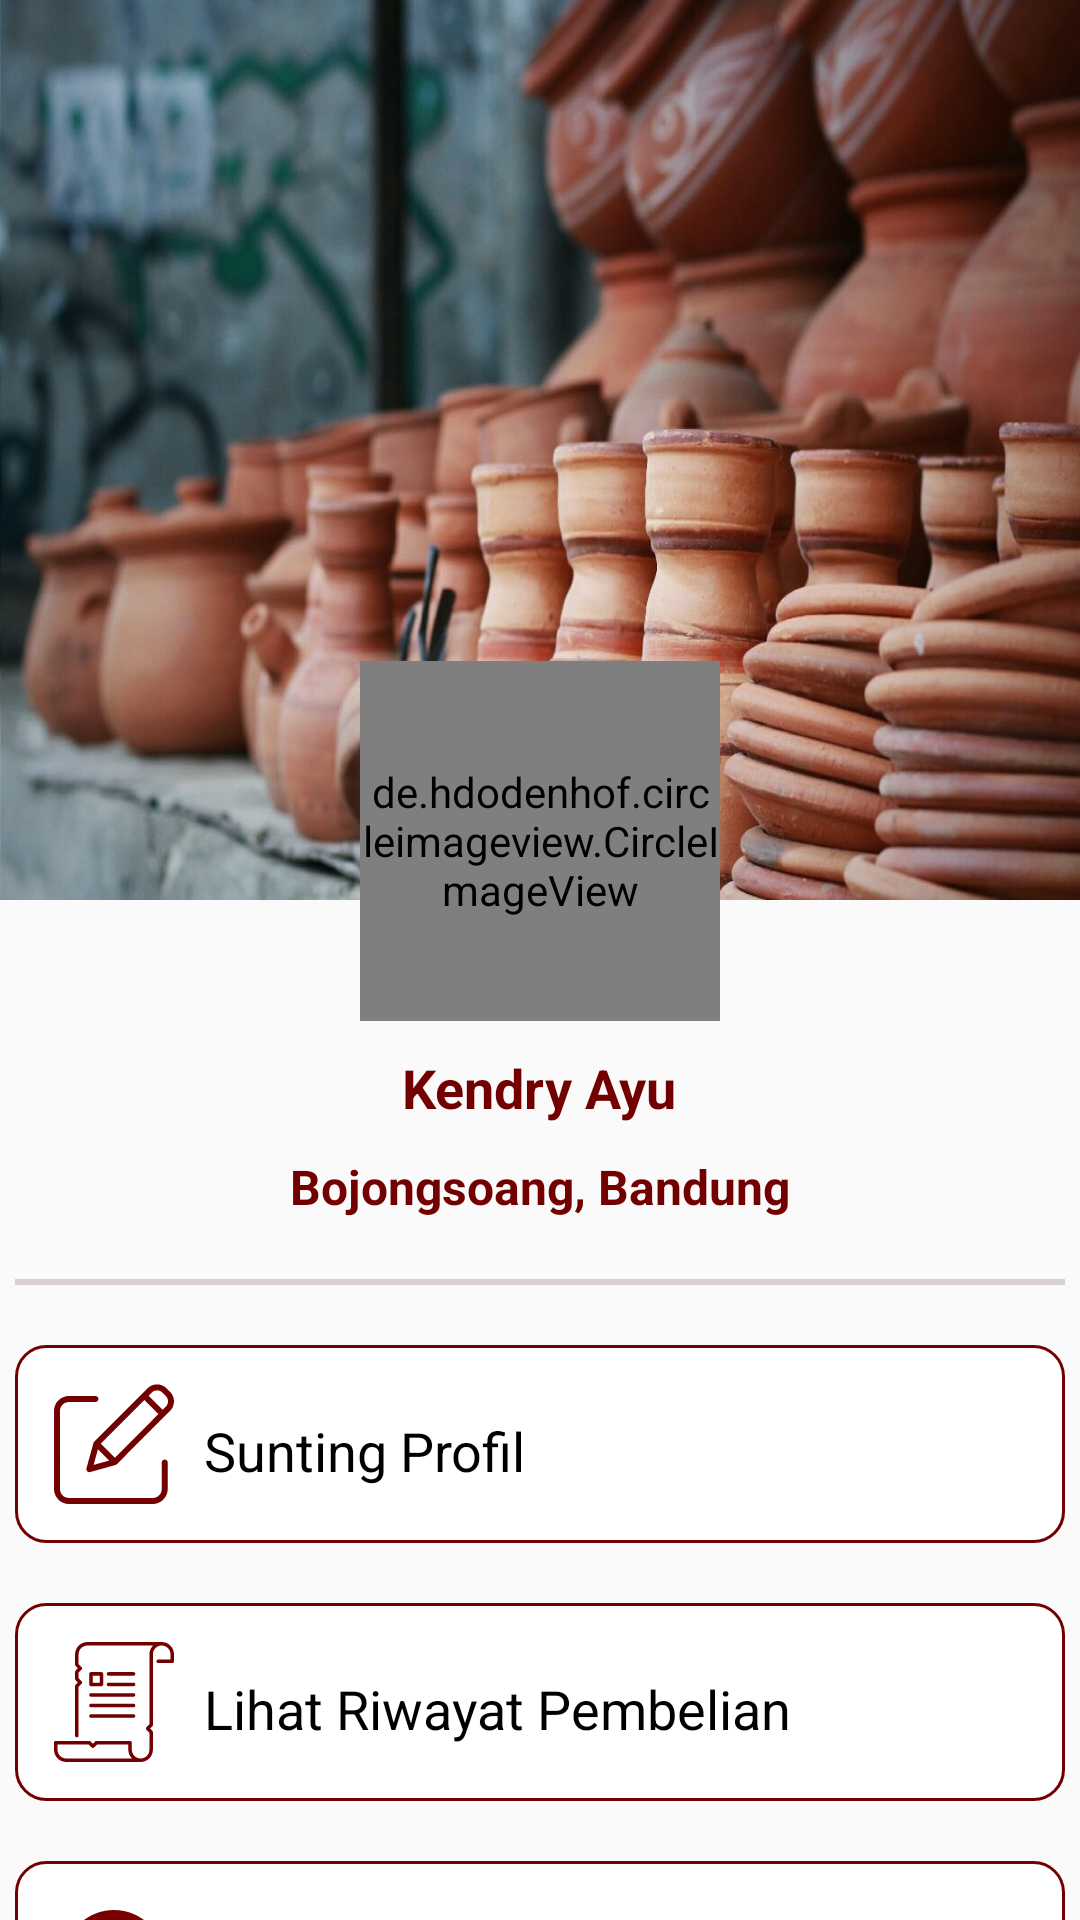

Icon click points for this 1080 × 1920 phone screenshot, format (x=x, y=y):
edit: (x=114, y=1444)
scroll: (x=114, y=1702)
